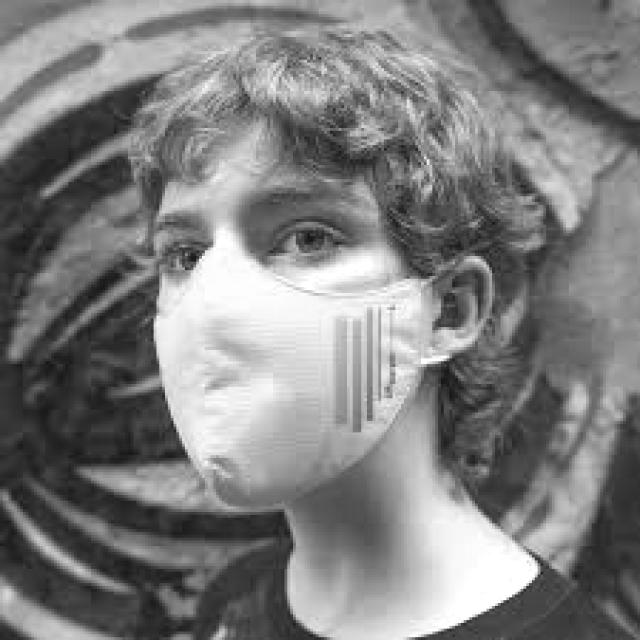fake: (151, 249, 438, 508)
real: (150, 135, 435, 509)
